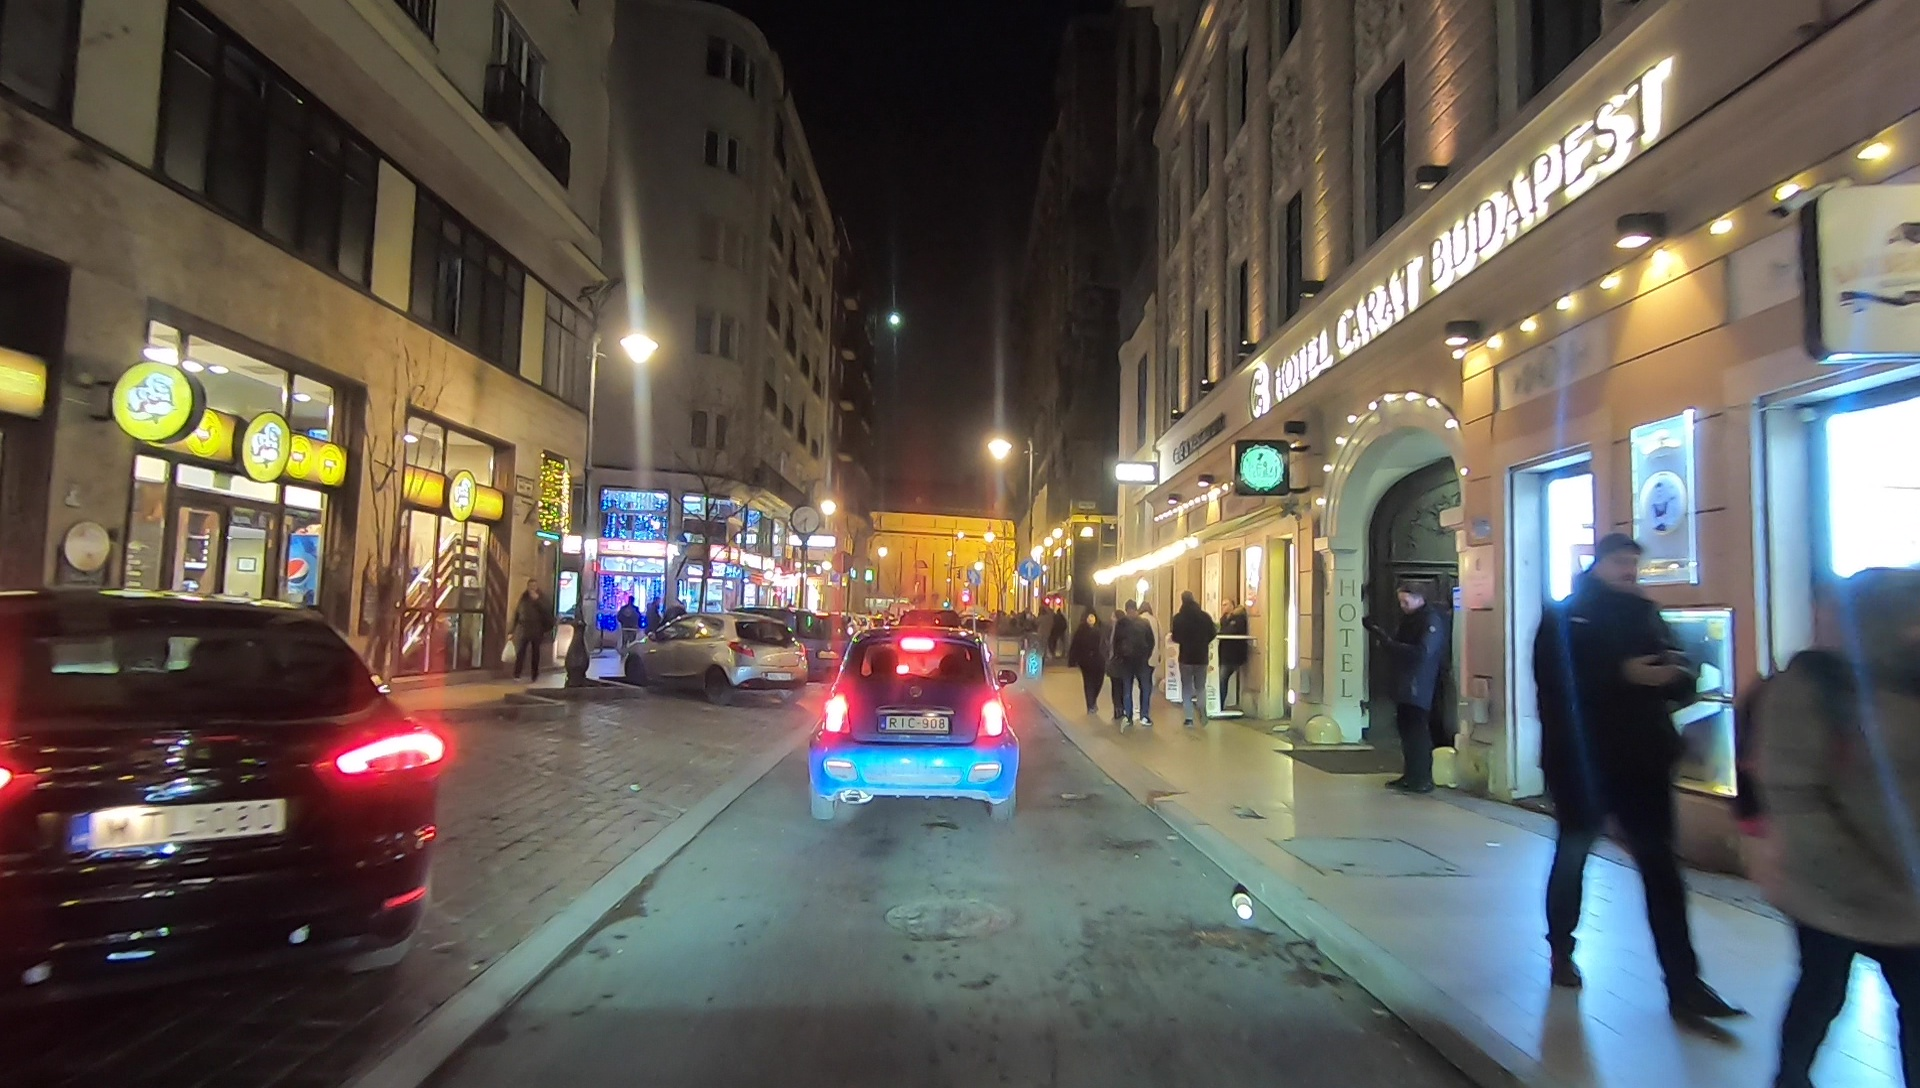person: (1530, 543, 1734, 1023), (1736, 560, 1920, 1084), (1369, 587, 1443, 794), (1174, 590, 1214, 729), (1117, 603, 1155, 731), (1073, 607, 1110, 715), (511, 579, 549, 681), (1213, 597, 1246, 711), (617, 594, 640, 659), (644, 595, 662, 652), (1035, 608, 1051, 670), (1052, 608, 1068, 665)
